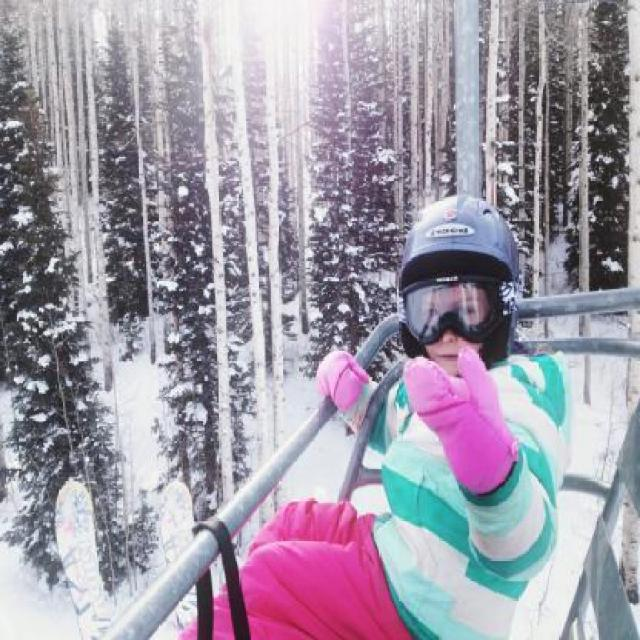glasses: (389, 273, 513, 339)
hand_glove: (401, 342, 499, 424), (308, 347, 372, 411)
head_helmet: (389, 191, 529, 300)
person: (175, 195, 552, 640)
